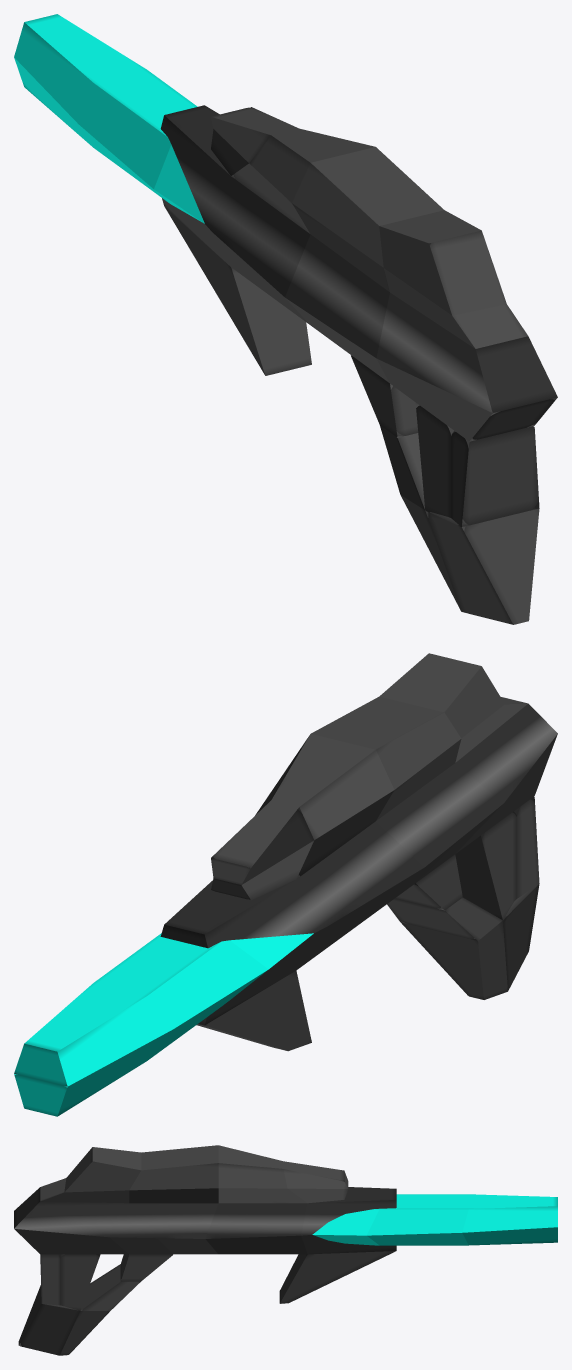
The model's file is rifle.fbx.
3 views of the same model, one above another, from view 1: azimuth 30°, elevation 25°; view 2: azimuth 150°, elevation 25°; view 3: azimuth 270°, elevation 25° (orthographic). The views are drawn at different scales.
Visible parts, largest first — view 1: cuboid_selection_4, cuboid_selection_3, glow, cuboid_1, cuboid_selection_2, cuboid, cuboid_3, cuboid_selection, cuboid_selection_5, cuboid_selection_1, cuboid_2; view 2: cuboid_selection_4, cuboid_selection_3, glow, cuboid_selection_2, cuboid_3, cuboid_selection, cuboid_2, cuboid_selection_1, cuboid_1, cuboid, cuboid_selection_5; view 3: cuboid_selection_4, cuboid_selection_3, glow, cuboid_selection_2, cuboid_3, cuboid_1, cuboid_selection, cuboid_selection_1, cuboid, cuboid_selection_5, cuboid_2.
Boxes of the visible parts, x1=… form: cuboid_selection_4: x1=211, y1=107, x2=527, y2=348; cuboid_selection_3: x1=160, y1=105, x2=557, y2=412; glow: x1=14, y1=14, x2=204, y2=223; cuboid_1: x1=427, y1=507, x2=539, y2=624; cuboid_selection_2: x1=162, y1=198, x2=557, y2=441; cuboid: x1=451, y1=426, x2=539, y2=526; cuboid_3: x1=164, y1=206, x2=311, y2=375; cuboid_selection: x1=415, y1=402, x2=499, y2=517; cuboid_selection_5: x1=351, y1=355, x2=418, y2=436; cuboid_selection_1: x1=380, y1=425, x2=424, y2=509; cuboid_2: x1=400, y1=495, x2=464, y2=610; cuboid_selection_4: x1=211, y1=653, x2=527, y2=900; cuboid_selection_3: x1=160, y1=703, x2=557, y2=948; glow: x1=14, y1=933, x2=313, y2=1116; cuboid_selection_2: x1=198, y1=734, x2=557, y2=1025; cuboid_3: x1=196, y1=970, x2=311, y2=1051; cuboid_selection: x1=455, y1=812, x2=516, y2=920; cuboid_2: x1=400, y1=909, x2=507, y2=999; cuboid_selection_1: x1=387, y1=897, x2=502, y2=940; cuboid_1: x1=471, y1=884, x2=539, y2=990; cuboid: x1=481, y1=797, x2=539, y2=898; cuboid_selection_5: x1=395, y1=854, x2=462, y2=910; cuboid_selection_4: x1=40, y1=1145, x2=348, y2=1203; cuboid_selection_3: x1=14, y1=1187, x2=396, y2=1238; glow: x1=312, y1=1194, x2=557, y2=1245; cuboid_selection_2: x1=14, y1=1229, x2=396, y2=1254; cuboid_3: x1=279, y1=1251, x2=395, y2=1303; cuboid_1: x1=18, y1=1285, x2=80, y2=1355; cuboid_selection: x1=60, y1=1254, x2=100, y2=1310; cuboid_selection_1: x1=80, y1=1264, x2=140, y2=1310; cuboid: x1=40, y1=1254, x2=60, y2=1305; cuboid_selection_5: x1=120, y1=1254, x2=172, y2=1281; cuboid_2: x1=60, y1=1309, x2=109, y2=1355.
Bounding box in the file's own units: 14.06 × 34.01 × 84.38.
Materials: 1 (1 with a texture image).
